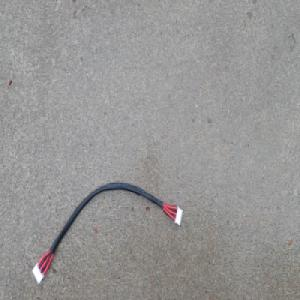Wire: (31, 180, 183, 285)
